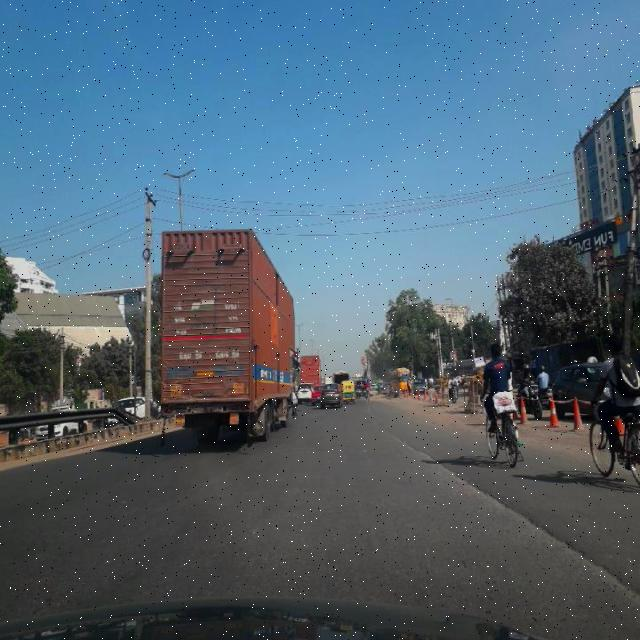D01: (411, 452, 632, 594)
